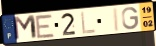2: (61, 12, 77, 37)
E: (34, 14, 56, 40)
G: (121, 6, 140, 31)
I: (112, 7, 121, 33)
L: (80, 10, 97, 35)
M: (12, 14, 39, 42)
